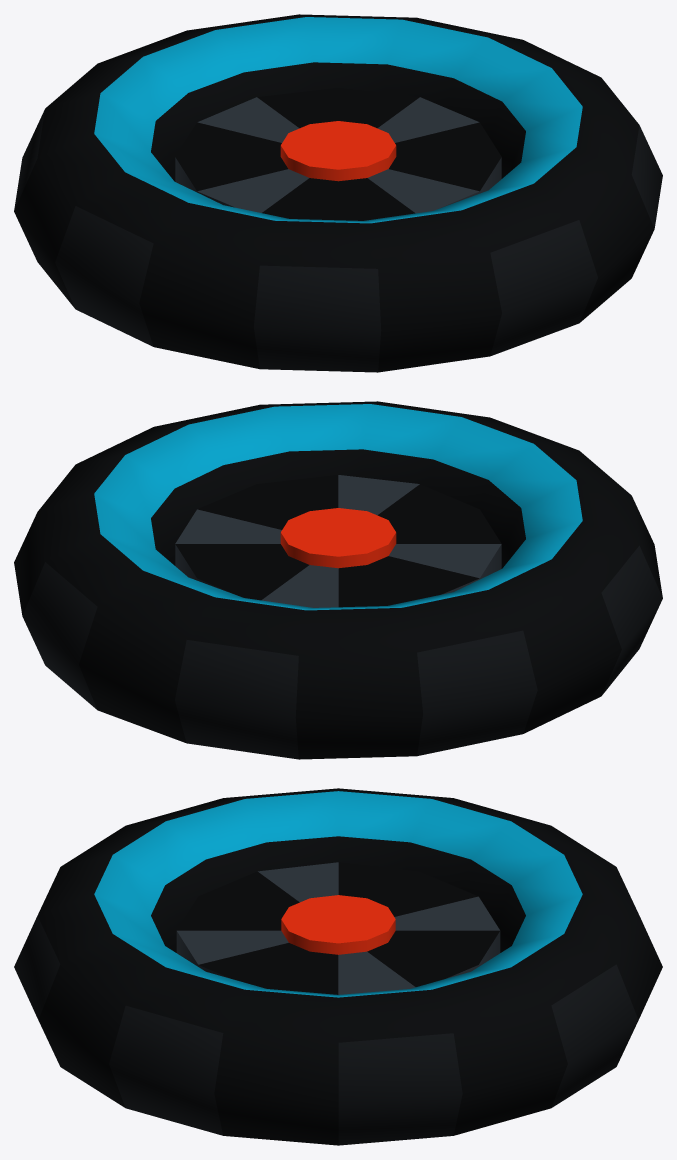
The model's file is tire.dae.
3 renders of one model, top to bottom at view 1: azimuth 30°, elevation 25°; view 2: azimuth 150°, elevation 25°; view 3: azimuth 270°, elevation 25°, orthographic.
Visible parts, largest first — view 1: tire; view 2: tire; view 3: tire.
Boxes of the visible parts, bbox=[...] form: tire: bbox=[14, 14, 662, 372]; tire: bbox=[14, 401, 662, 759]; tire: bbox=[14, 788, 662, 1145].
Bounding box in the file's own units: 0.85 × 0.85 × 0.21.
